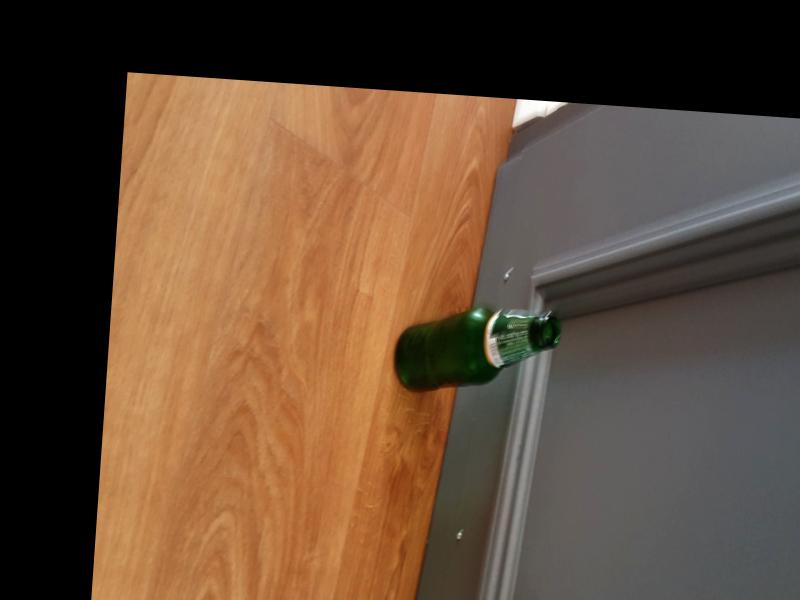Beer: (393, 304, 559, 398)
